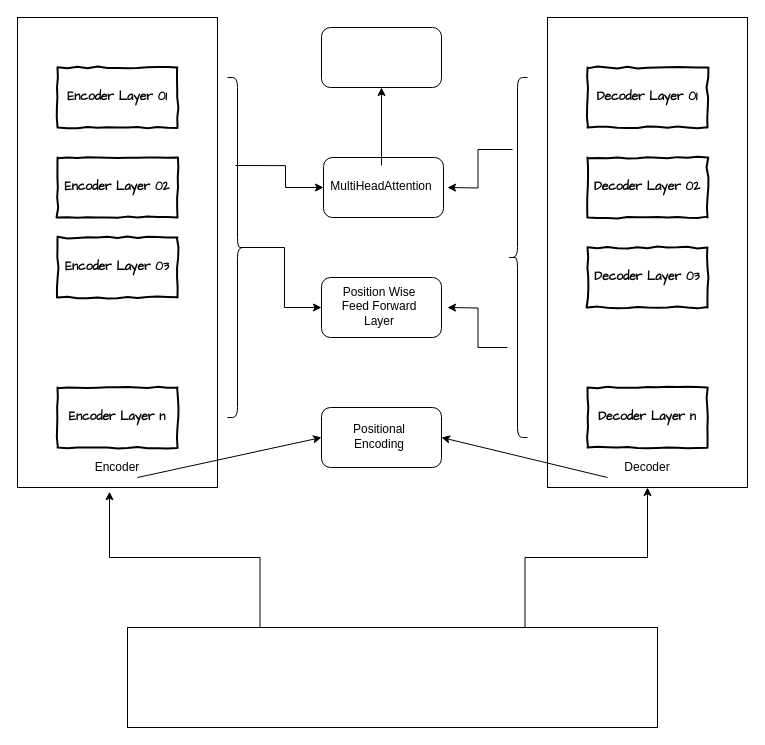
The diagram is 765 pixels wide and 745 high, and some of its shapes have lost their labels. Each missing label, with the centre of its shape:
"Scaled Dot Product Attention" goes at (x=381, y=57).
"Transformer (Seq2Seq)" goes at (x=392, y=677).
